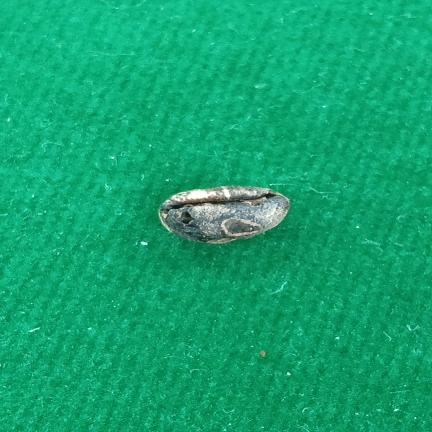partial-black: (159, 186, 290, 244)
